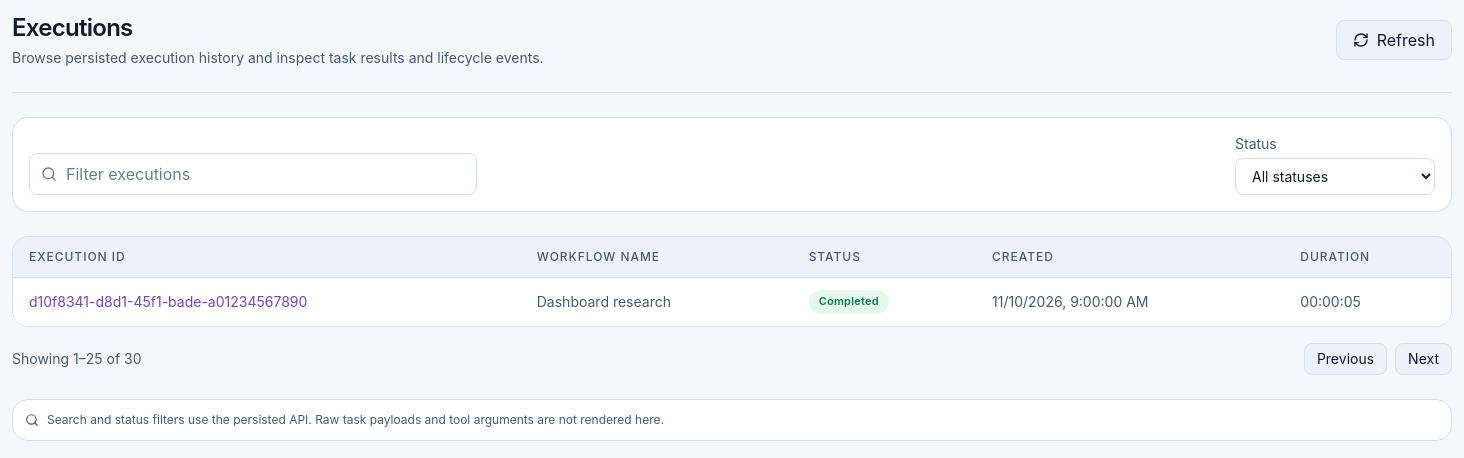
Test: ExecutionsPage › recovers from an out-of-range page
expect the text "Dashboard research" is shown: met, box left=537, top=293, right=671, bottom=310
Click the button "Next" at (1424, 359), box left=1395, top=343, right=1452, bottom=375
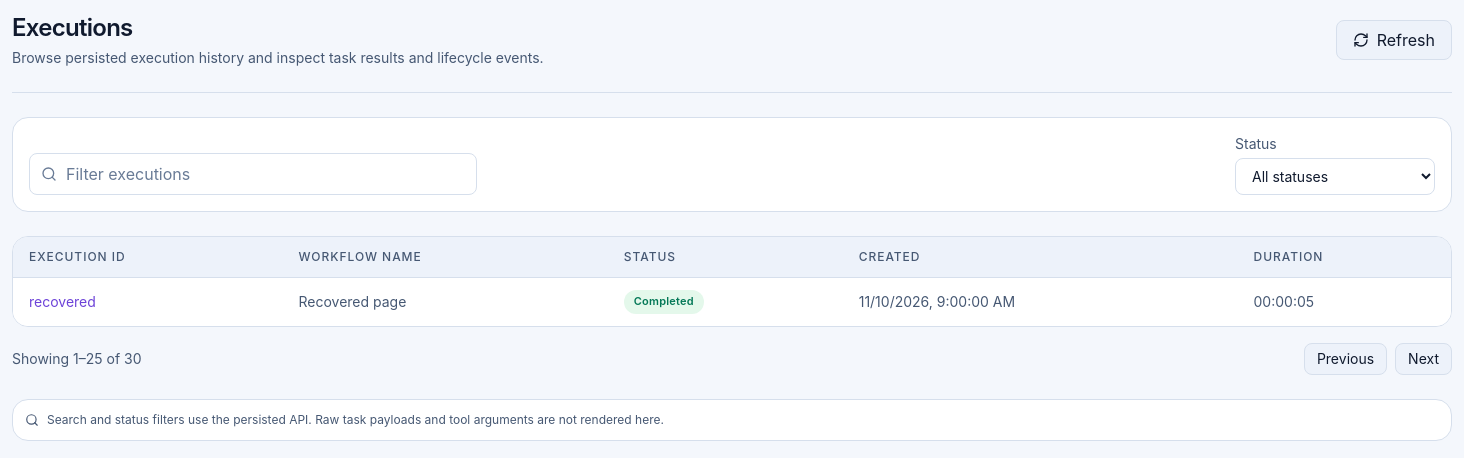
expect the text "Recovered page" is shown: met, box left=298, top=293, right=406, bottom=310
